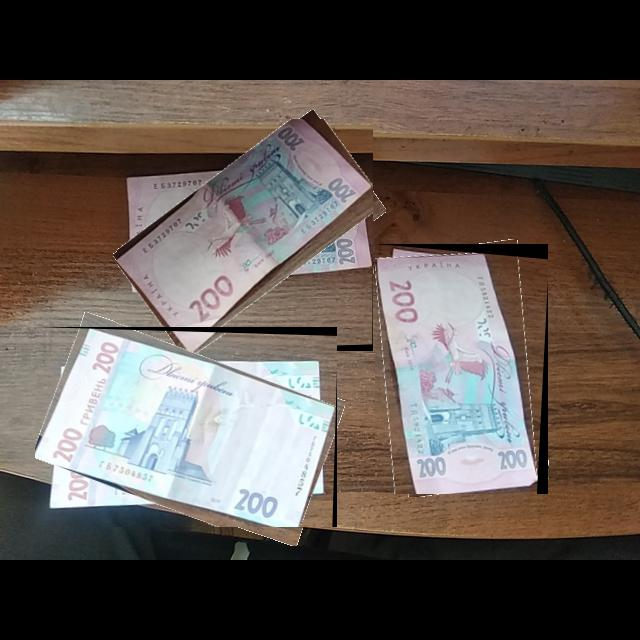200uah: (35, 329, 337, 528), (117, 119, 374, 351), (375, 251, 540, 495)
